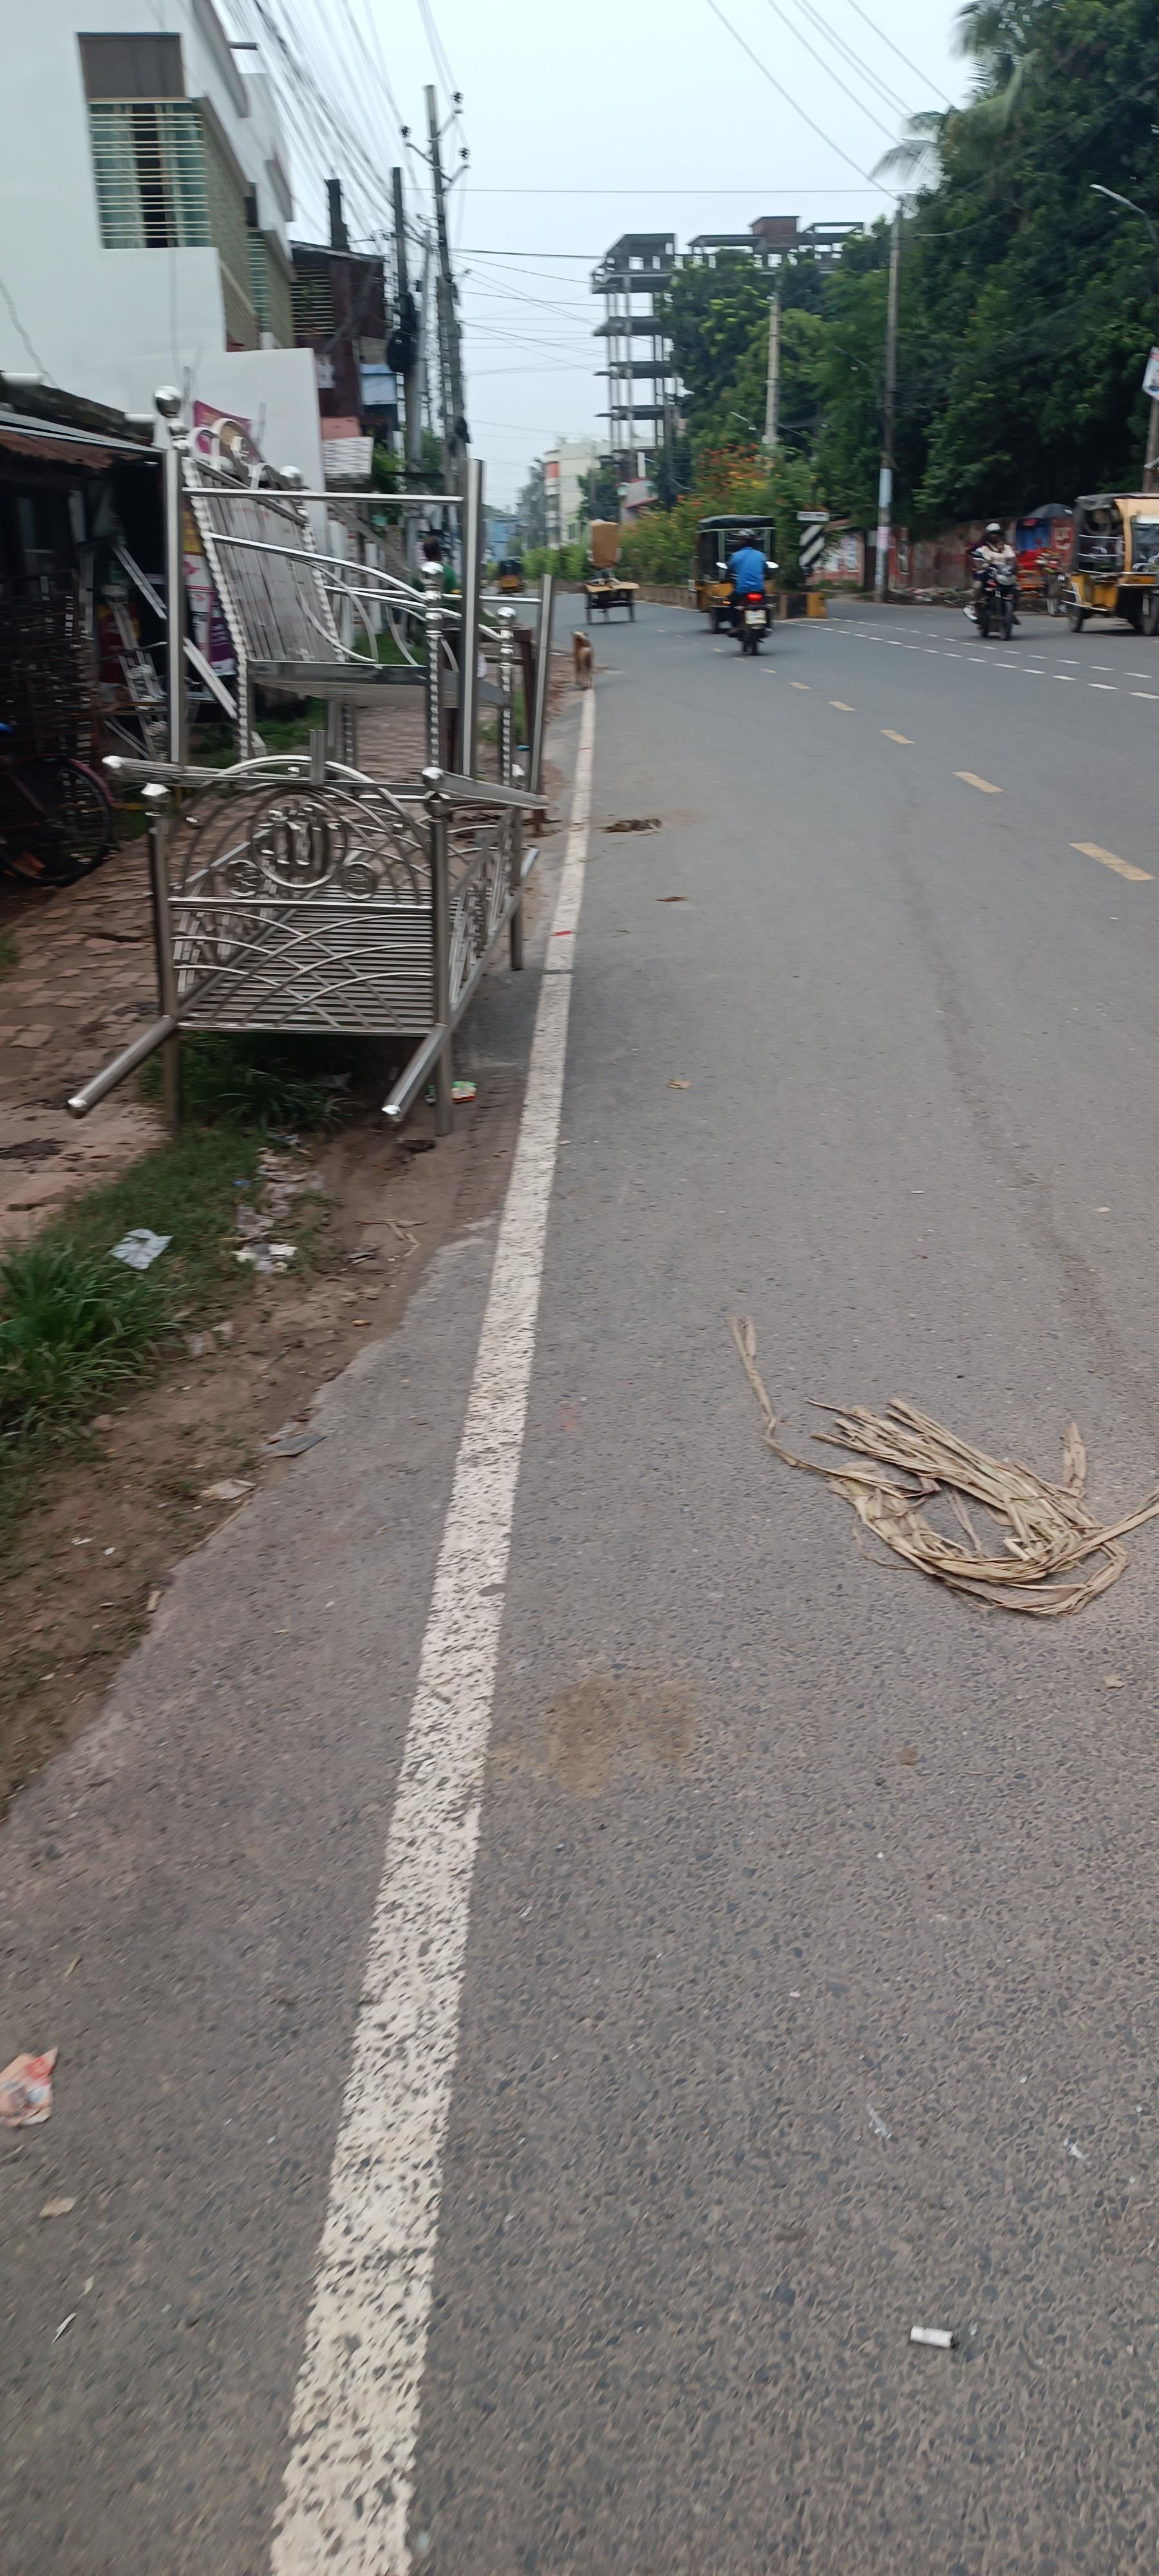Dog: (721, 1306, 1154, 1624)
Fallen-tree: (713, 562, 775, 656)
Garbage: (66, 428, 556, 1137)
Garbage-bin: (968, 522, 1021, 638)
Traffic-cone: (1066, 491, 1159, 636)
